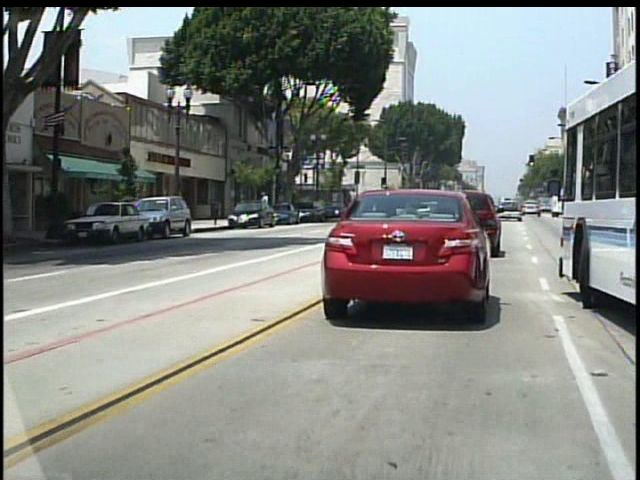person: (261, 190, 274, 224)
